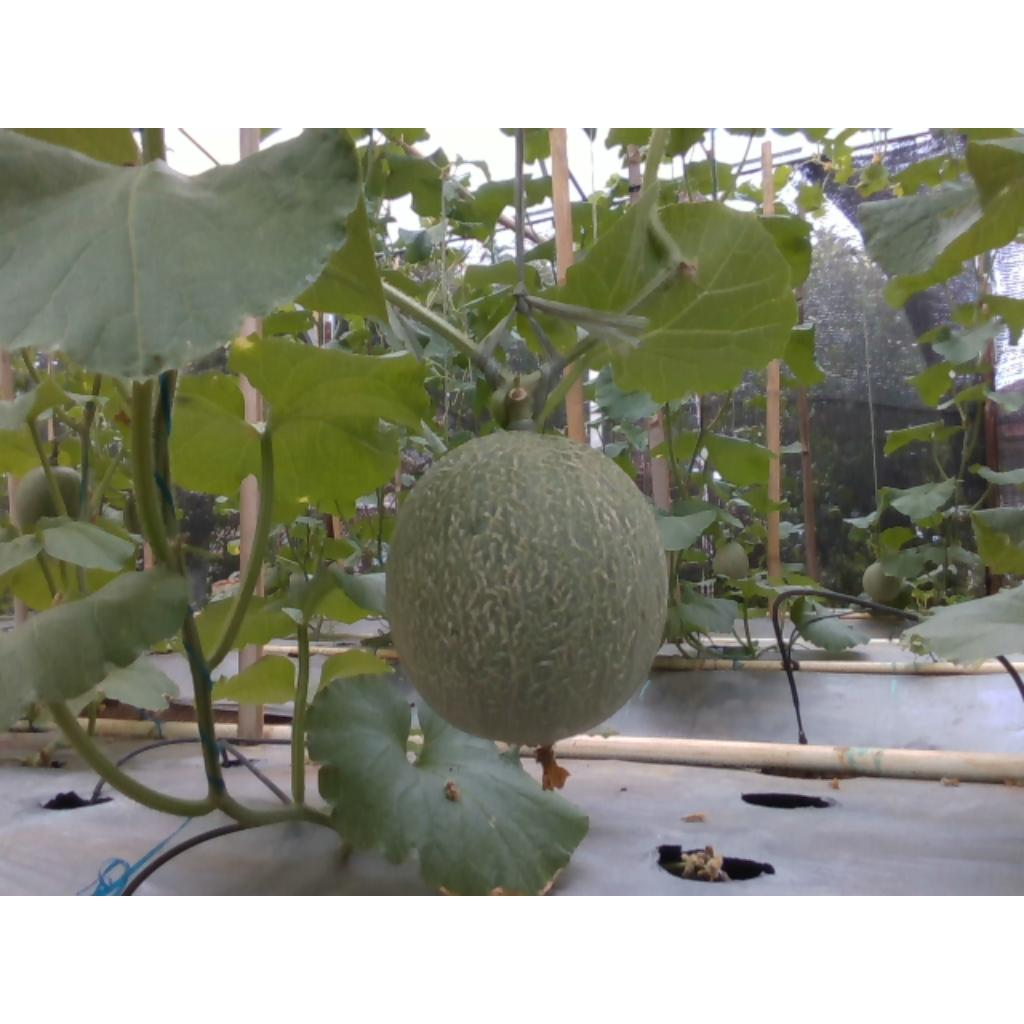melon: (387, 430, 669, 746)
